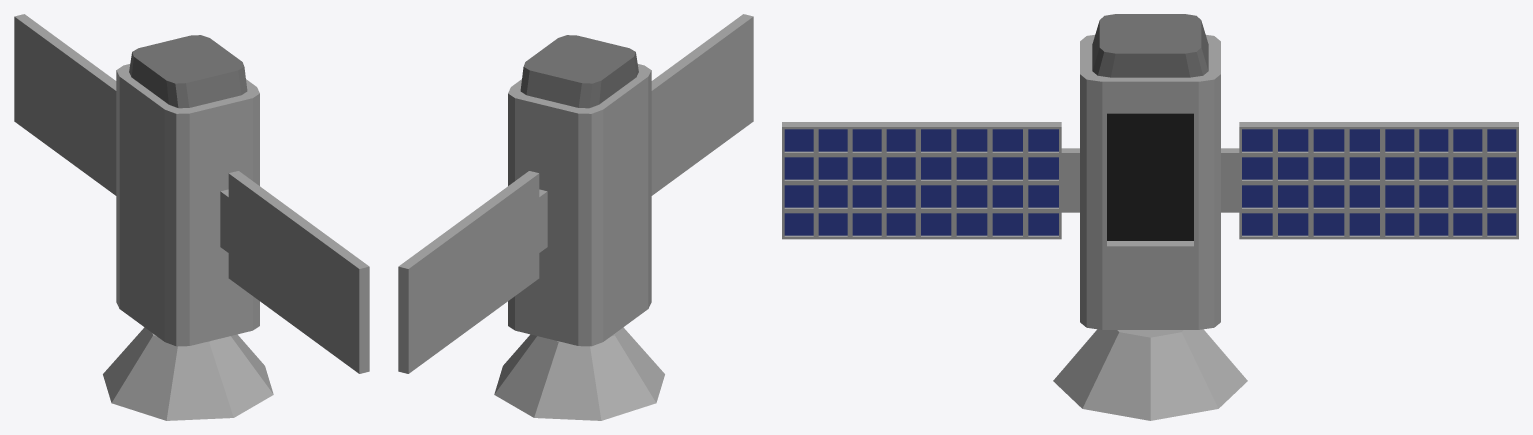
Rendered from satellite.glb.
3 renders of one model, left to right at view 1: azimuth 30°, elevation 25°; view 2: azimuth 150°, elevation 25°; view 3: azimuth 270°, elevation 25°, orthographic. The views are drawn at different scales.
Visible parts, largest first — view 1: Cube_0; view 2: Cube_0; view 3: Cube_0.
Boxes of the visible parts, x1,y1,x2,y2 form: Cube_0: [14, 14, 369, 420]; Cube_0: [398, 14, 753, 420]; Cube_0: [782, 14, 1518, 420].
Bounding box in the file's own units: 2.95 × 5.98 × 11.5.
